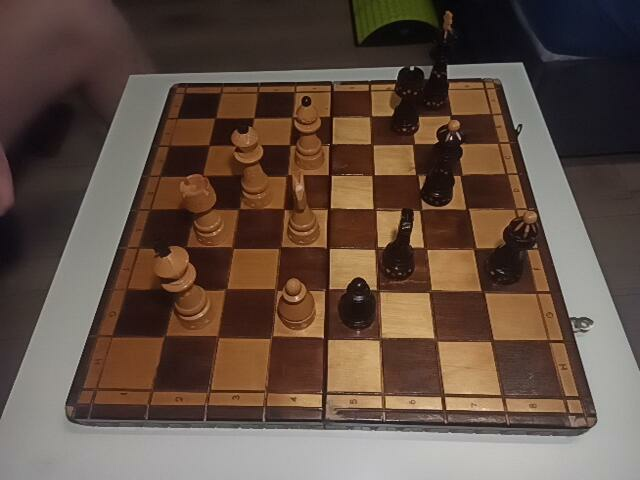B-Bishop: (486, 210, 540, 287)
B-King: (422, 10, 457, 110)
B-Knight: (381, 208, 417, 281)
B-Pawn: (339, 278, 378, 328)
B-Queen: (421, 119, 464, 206)
B-Rook: (391, 66, 425, 135)
W-Bishop: (292, 96, 327, 170)
W-King: (150, 240, 213, 329)
W-Knight: (287, 171, 321, 245)
W-Pawn: (278, 278, 316, 330)
W-Queen: (231, 124, 271, 208)
W-Rook: (181, 175, 226, 244)
